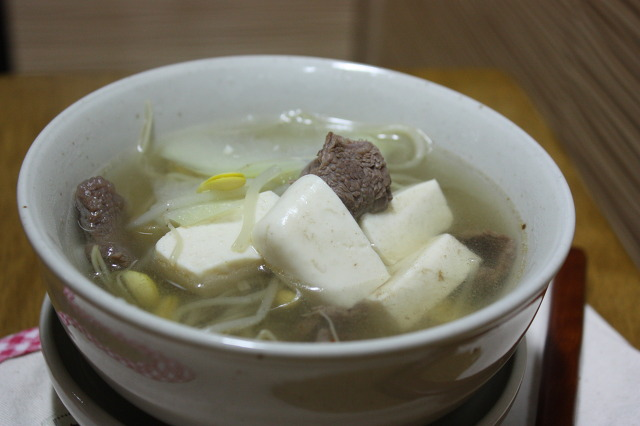mugug: (66, 115, 529, 348)
